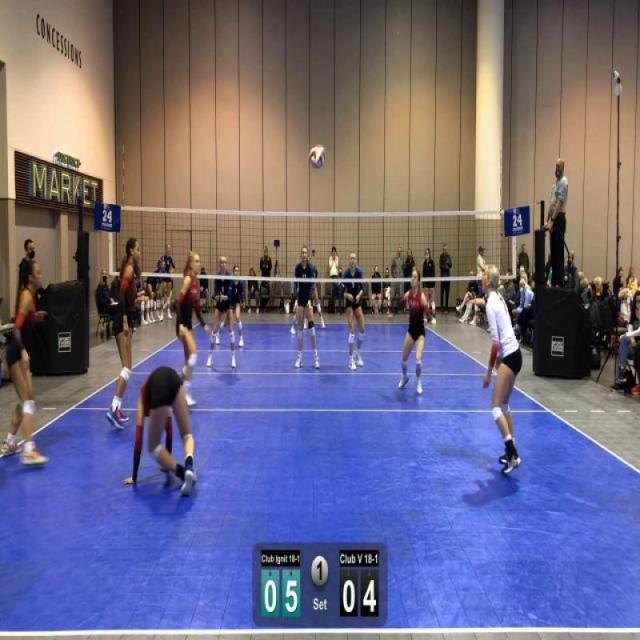volleyball: (307, 142, 328, 171)
